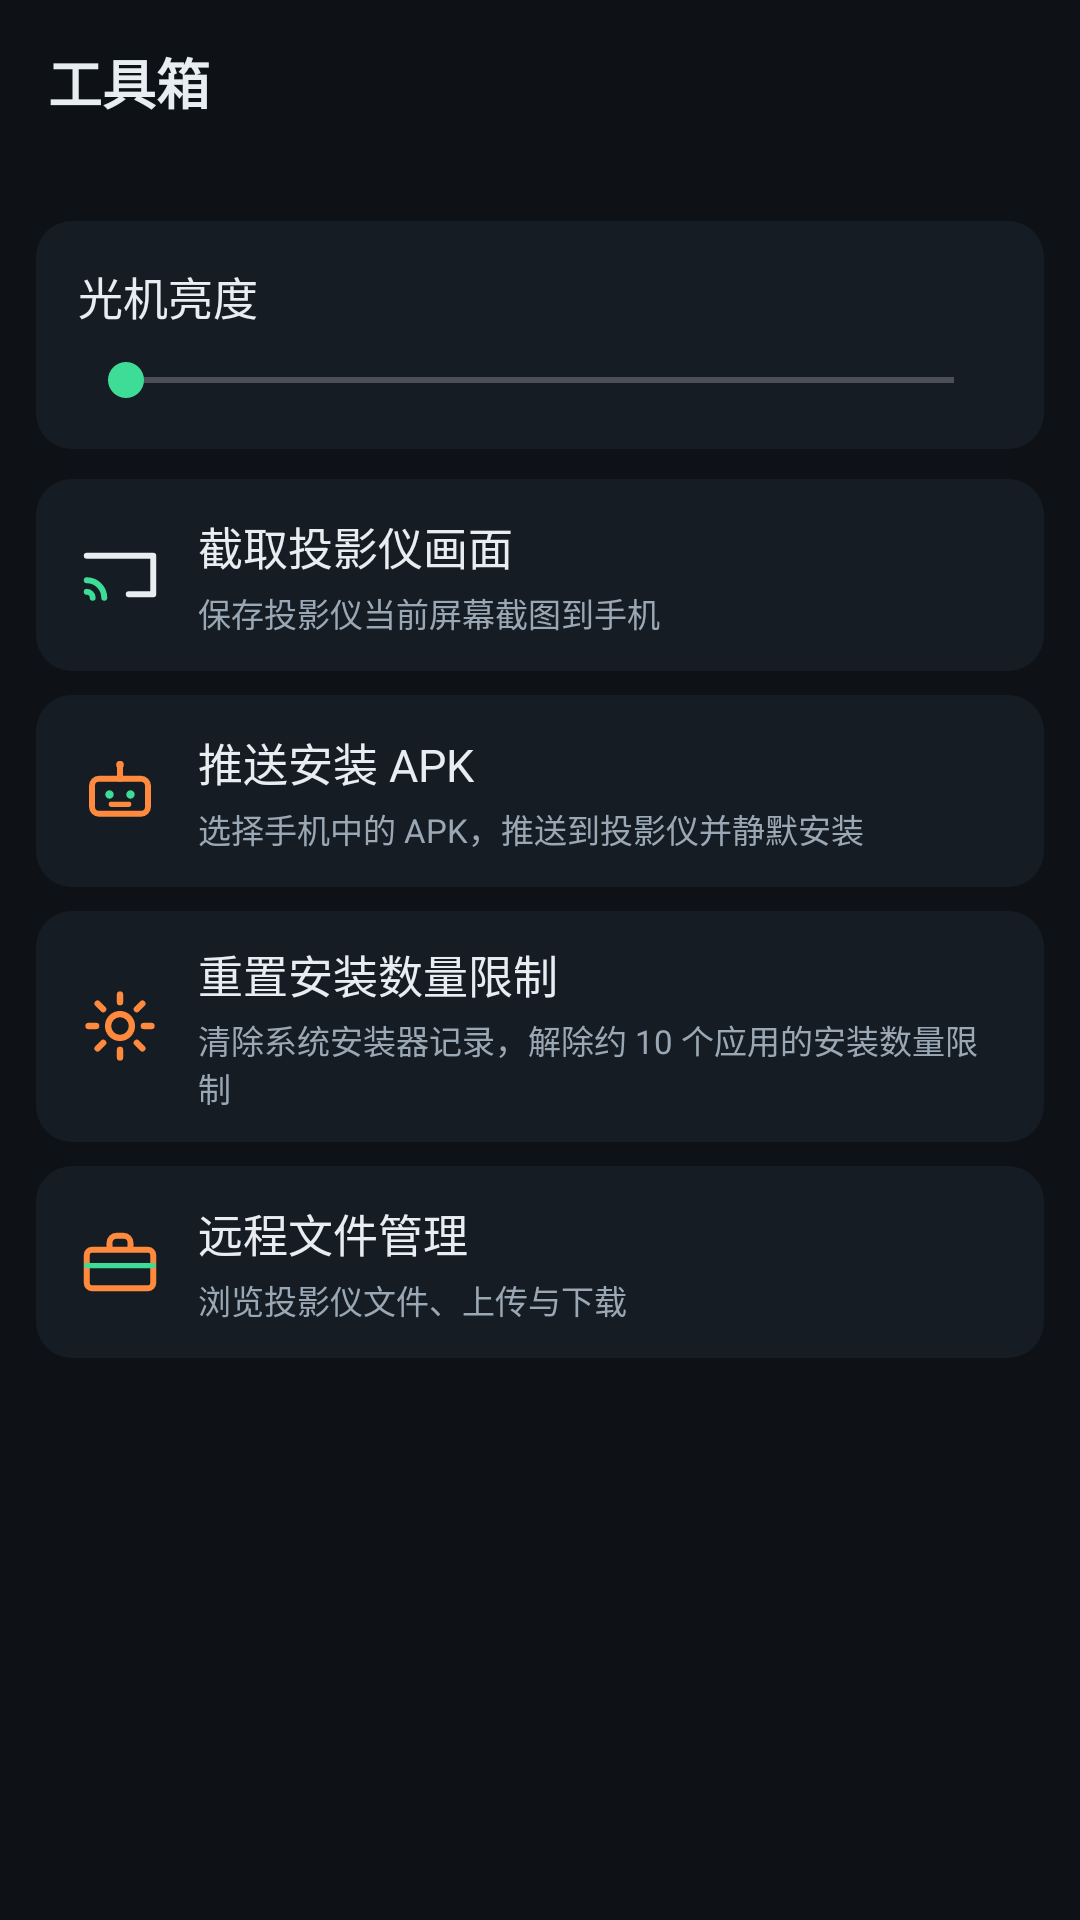

Named icons in this screenshot (1080px x 1920px) and their bounding boxes, (x1, y1, x2, y2):
agent: (89, 761, 151, 817)
cast: (83, 552, 157, 601)
toolbox: (83, 1232, 157, 1292)
